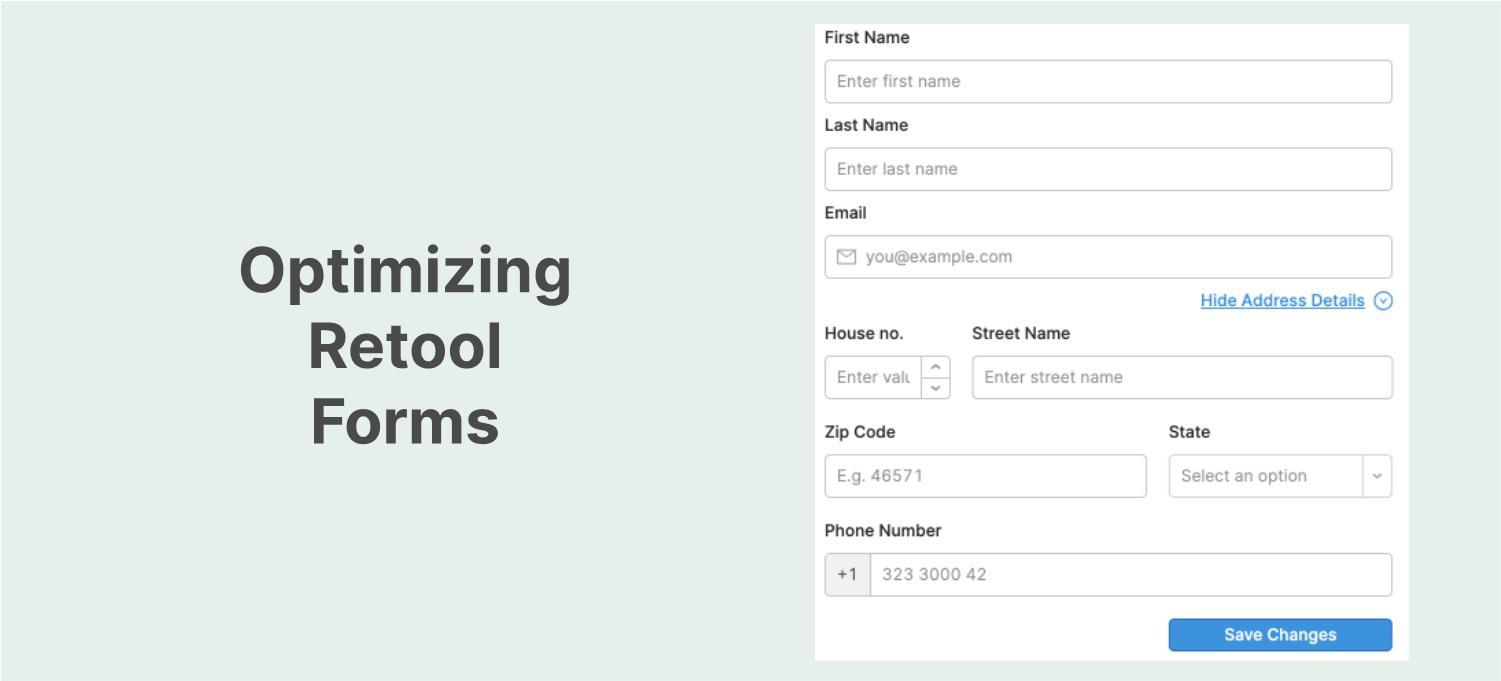button: (1169, 617, 1395, 652)
dropdown: (1169, 455, 1393, 496)
input: (827, 61, 1393, 104), (872, 553, 1393, 598), (826, 149, 1392, 190), (825, 237, 1392, 277), (974, 357, 1396, 399), (825, 454, 1147, 500), (825, 357, 923, 399)
label: (1200, 290, 1367, 311), (822, 522, 946, 542), (968, 323, 1074, 346), (825, 116, 916, 136), (821, 423, 899, 444), (824, 30, 913, 47), (824, 326, 906, 344), (1169, 422, 1215, 443), (826, 204, 873, 223)
